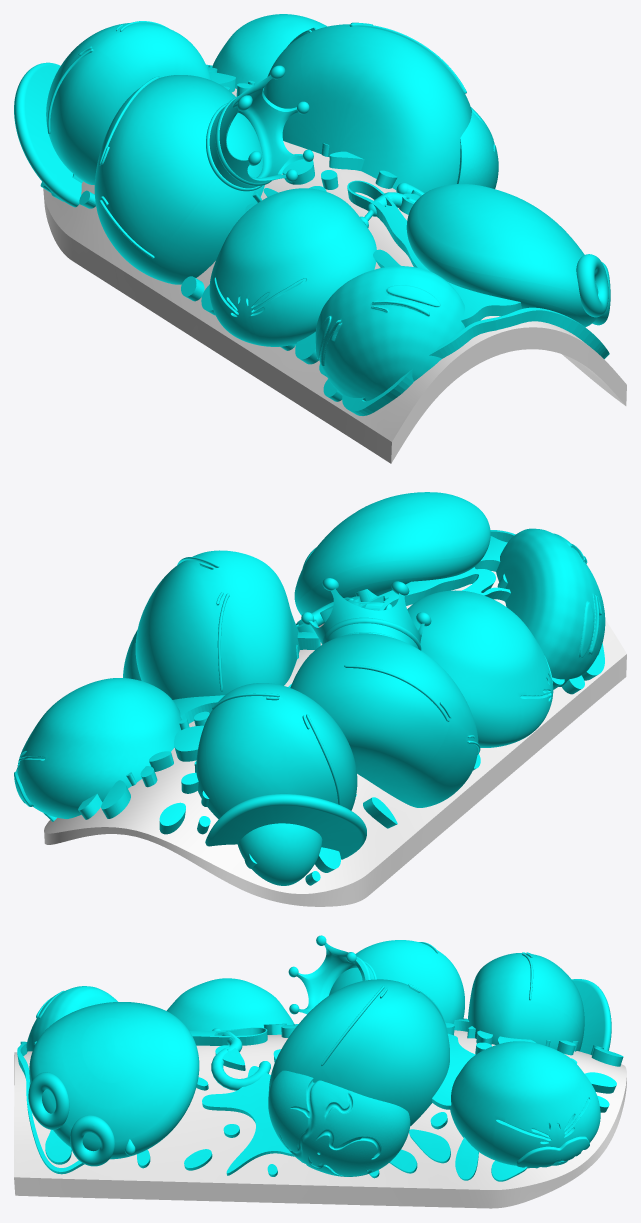
File: rimuru-square-full.glb
3 views of the same model, one above another, from view 1: azimuth 30°, elevation 25°; view 2: azimuth 150°, elevation 25°; view 3: azimuth 270°, elevation 25° (orthographic). The views are drawn at different scales.
Bounding box in the file's own units: 0.0168 × 0.0103 × 0.0301.
